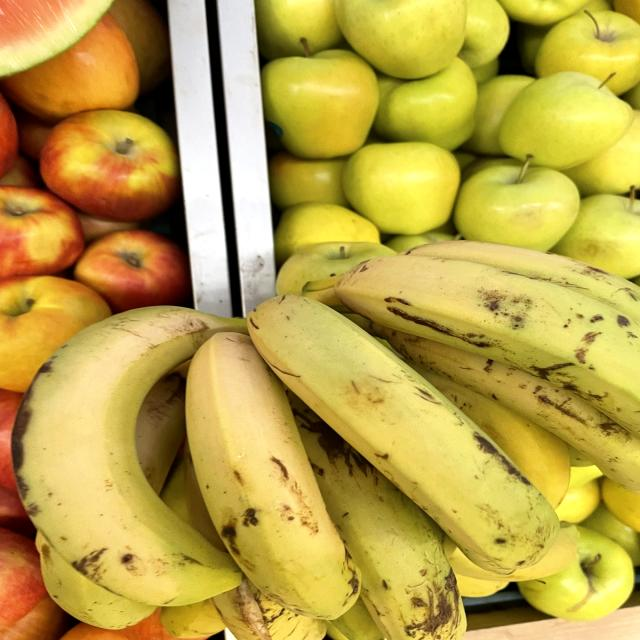banana: (262, 293, 562, 578)
